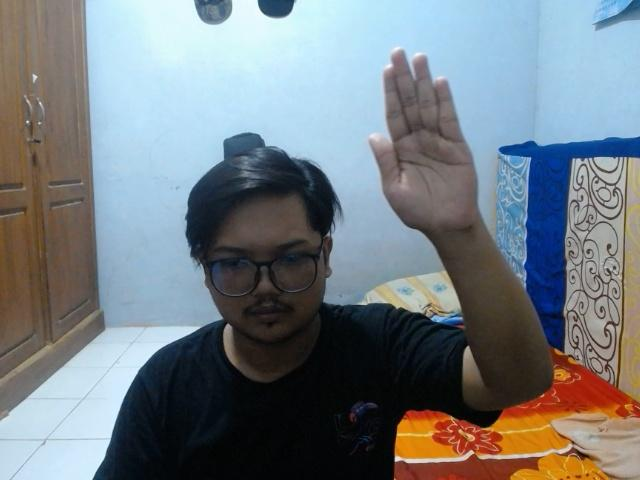Release: (362, 41, 486, 238)
